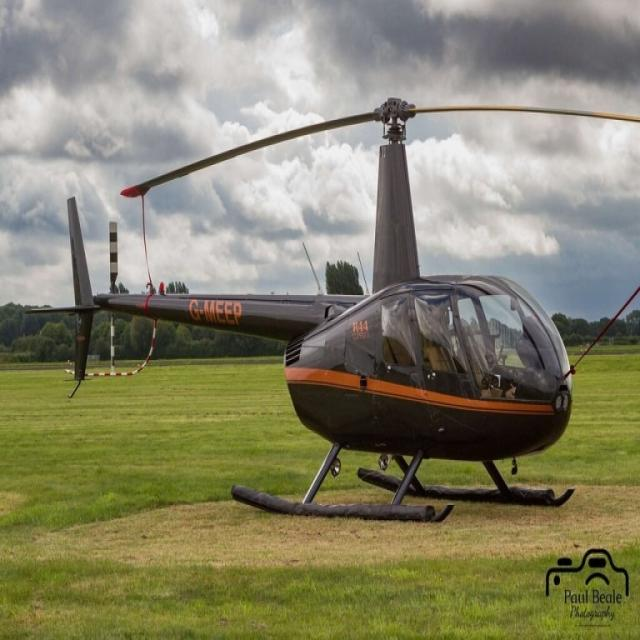CIV_HELO: (281, 88, 581, 524), (0, 89, 65, 295)
